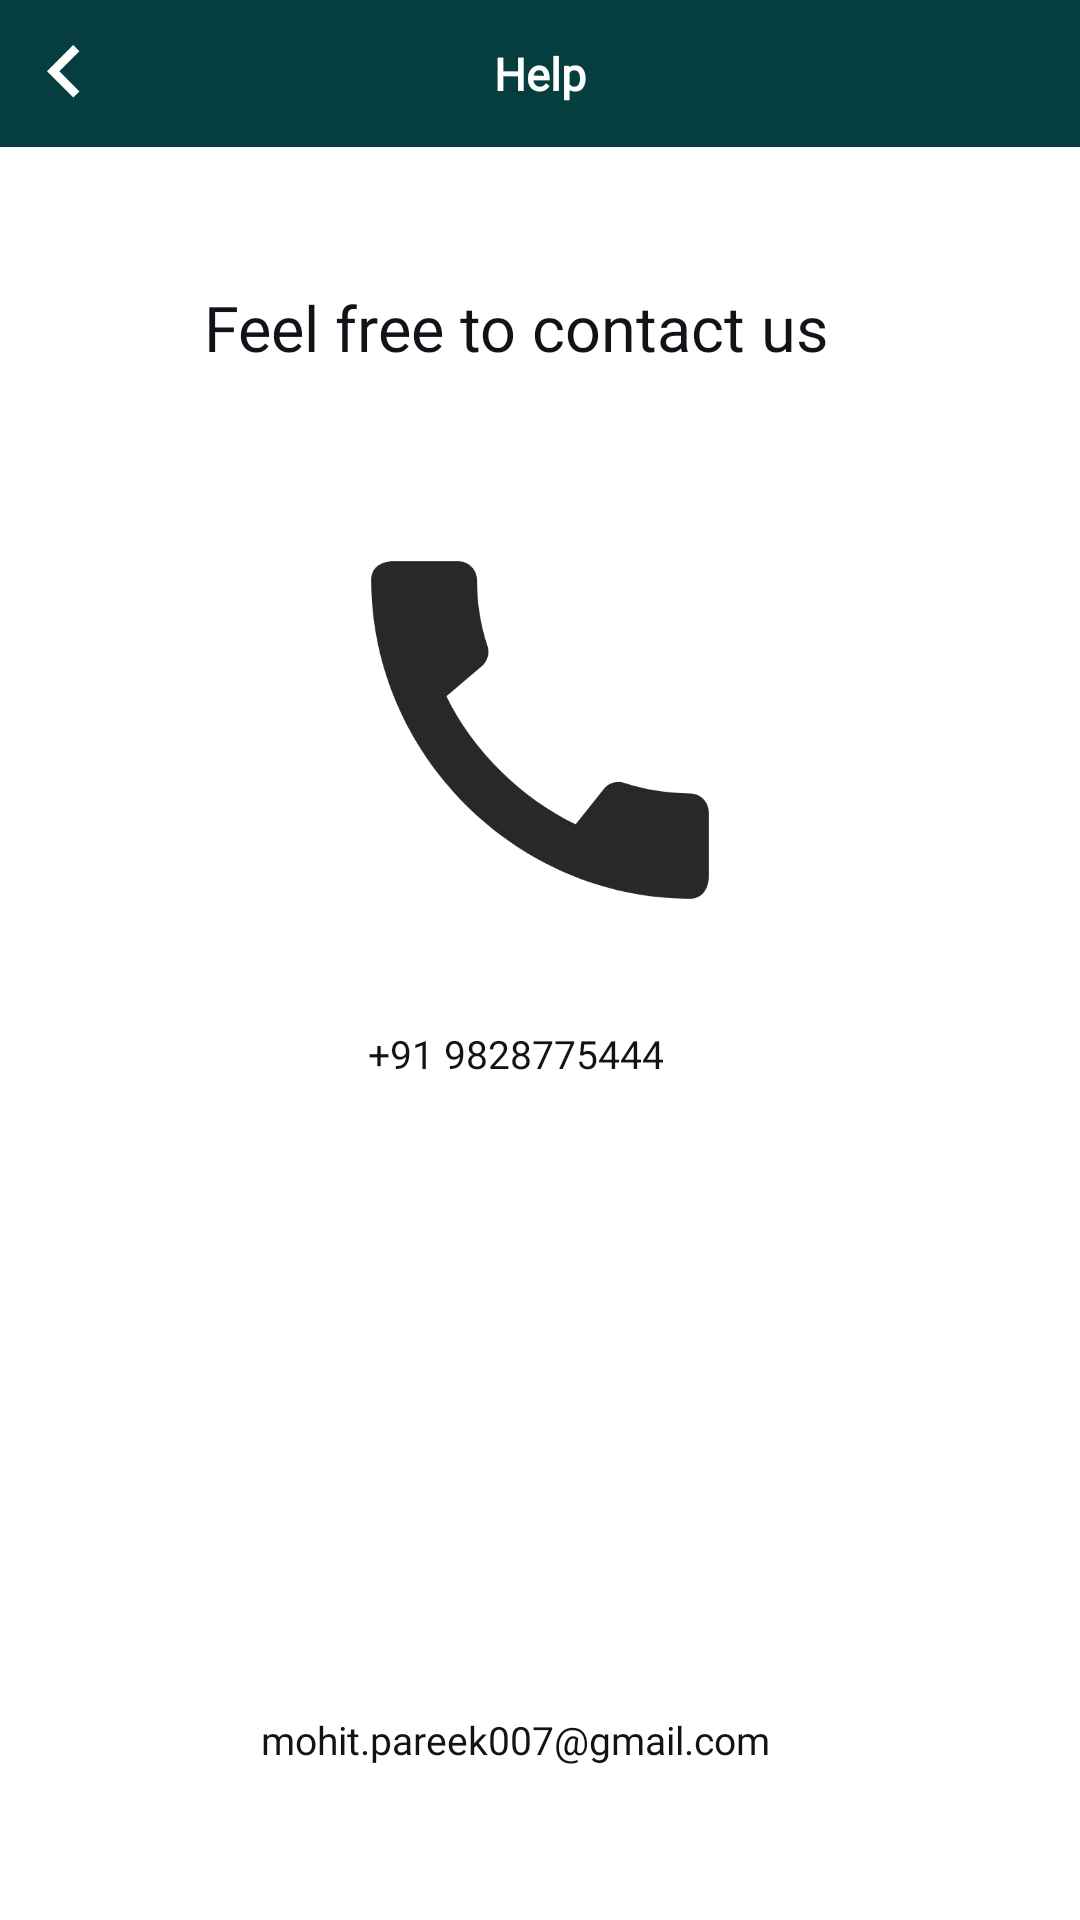

Named icons in this screenshot (1080px x 1920px) and their centers, [x,y]:
call: [540,730]
keyboard arrow left: [63,71]
